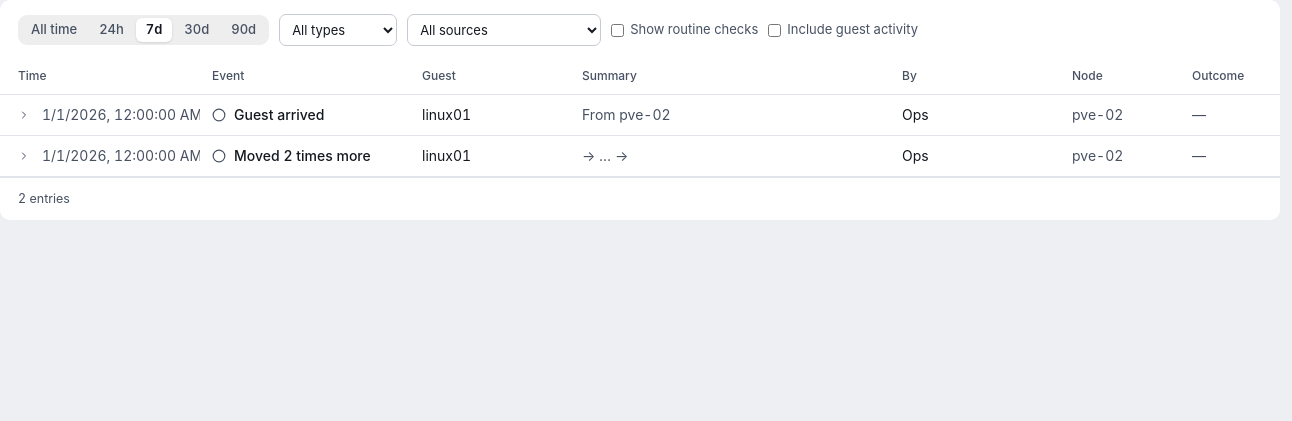
NodeHistoryTab › reads the node's History, a guest's move linked to the guest
Expected: the checkbox labelled "Include guest activity" is shown, x1=768 y1=24 x2=781 y2=36
Click the text "Guest arrived" at (279, 114), box x1=234 y1=104 x2=324 y2=124
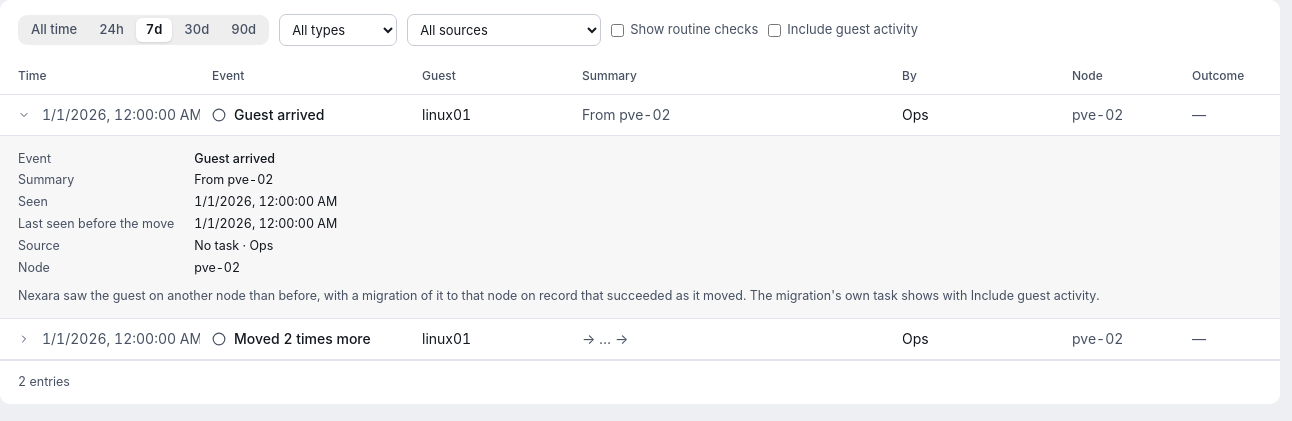
Expected: the text "Last seen before the move" is shown, x1=18 y1=215 x2=174 y2=233
Click the text "Moved 2 times more" at (302, 339), box x1=234 y1=329 x2=371 y2=349
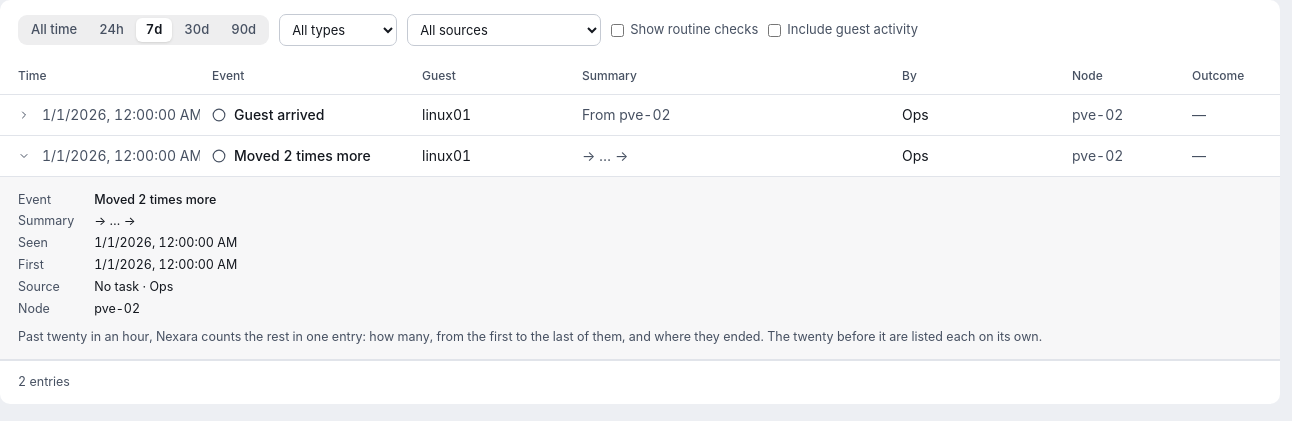
Expected: the text "First" is shown, x1=18 y1=257 x2=44 y2=272
